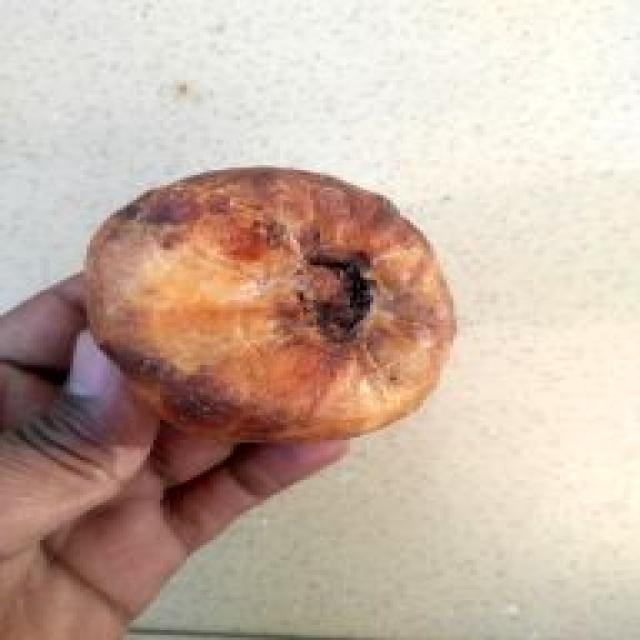Bad_Guava: (85, 170, 452, 440)
